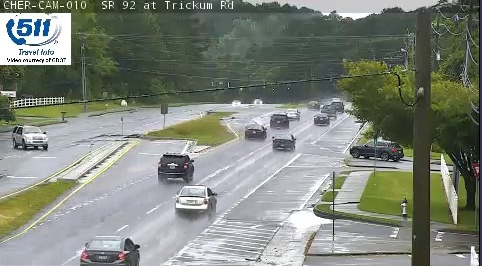car: (80, 237, 141, 266), (176, 185, 216, 213), (158, 153, 193, 178), (271, 133, 295, 149), (244, 124, 267, 140), (270, 114, 288, 128), (283, 109, 301, 120), (322, 105, 336, 118), (313, 115, 329, 126)
